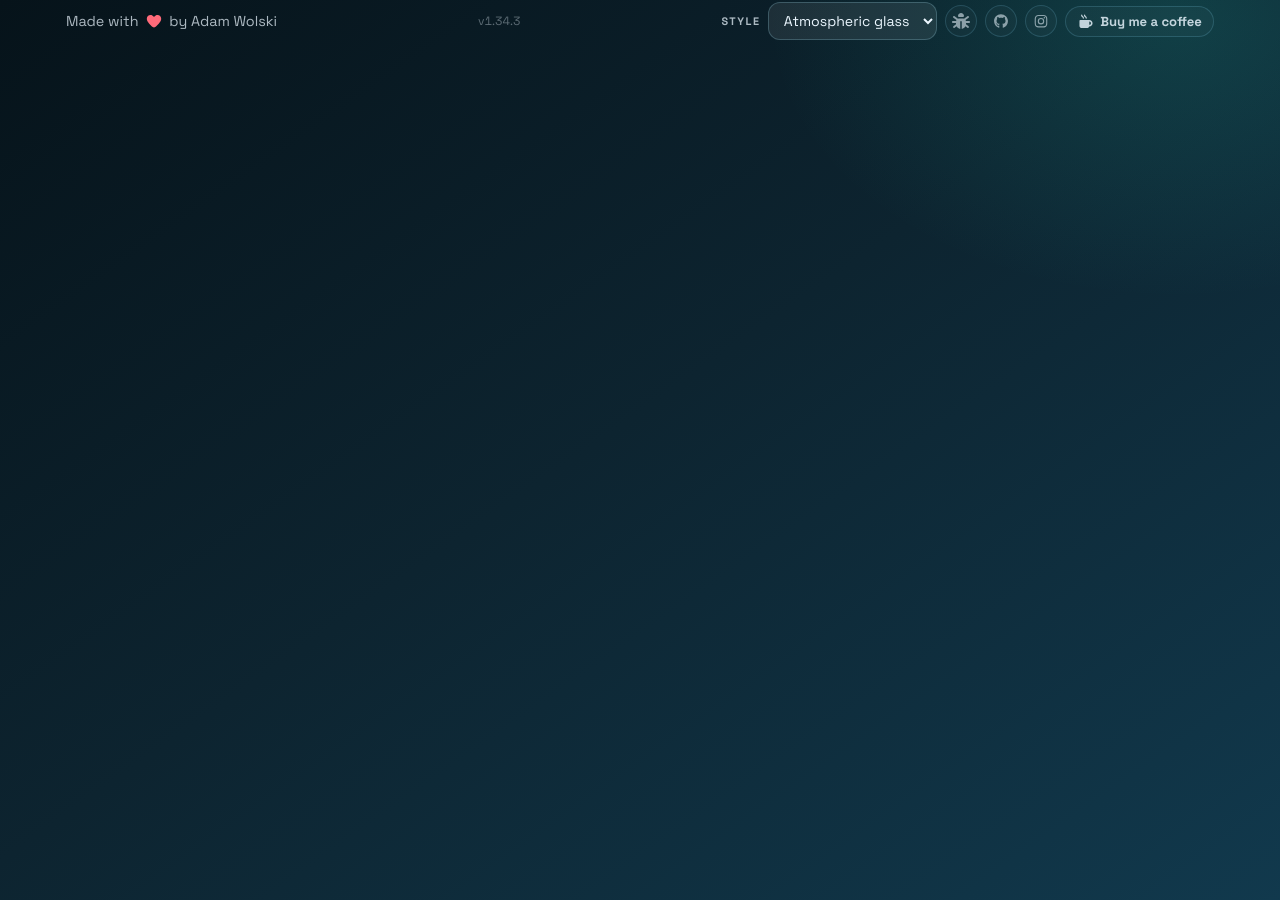
Test: Footer › closes again on Escape
Click the button with test id "report-bug-button": (961,21) top-left (945, 5), bottom-right (977, 37)
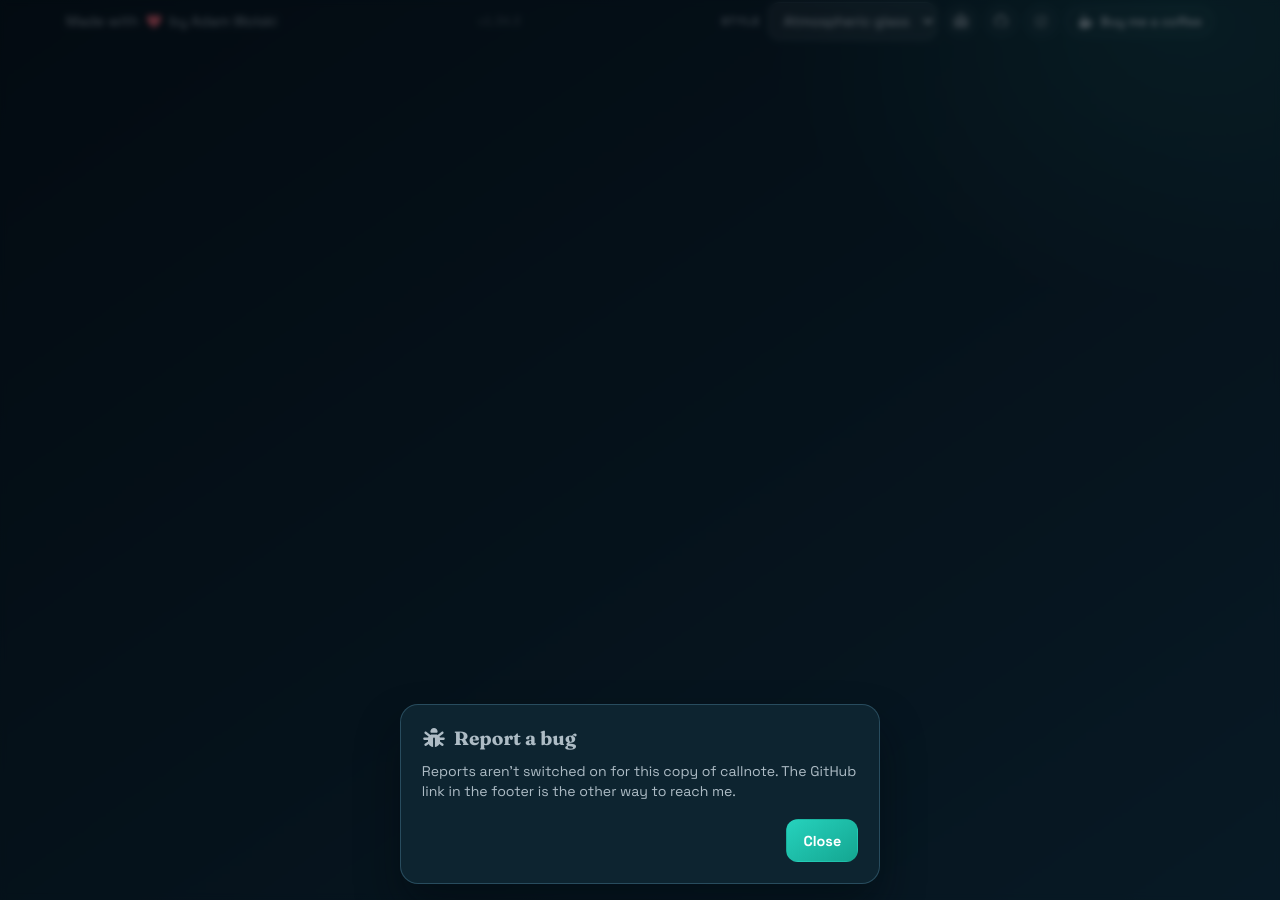
Result: the text with test id "bug-unavailable" is shown at top-left (422, 761), bottom-right (858, 802)
Press Escape
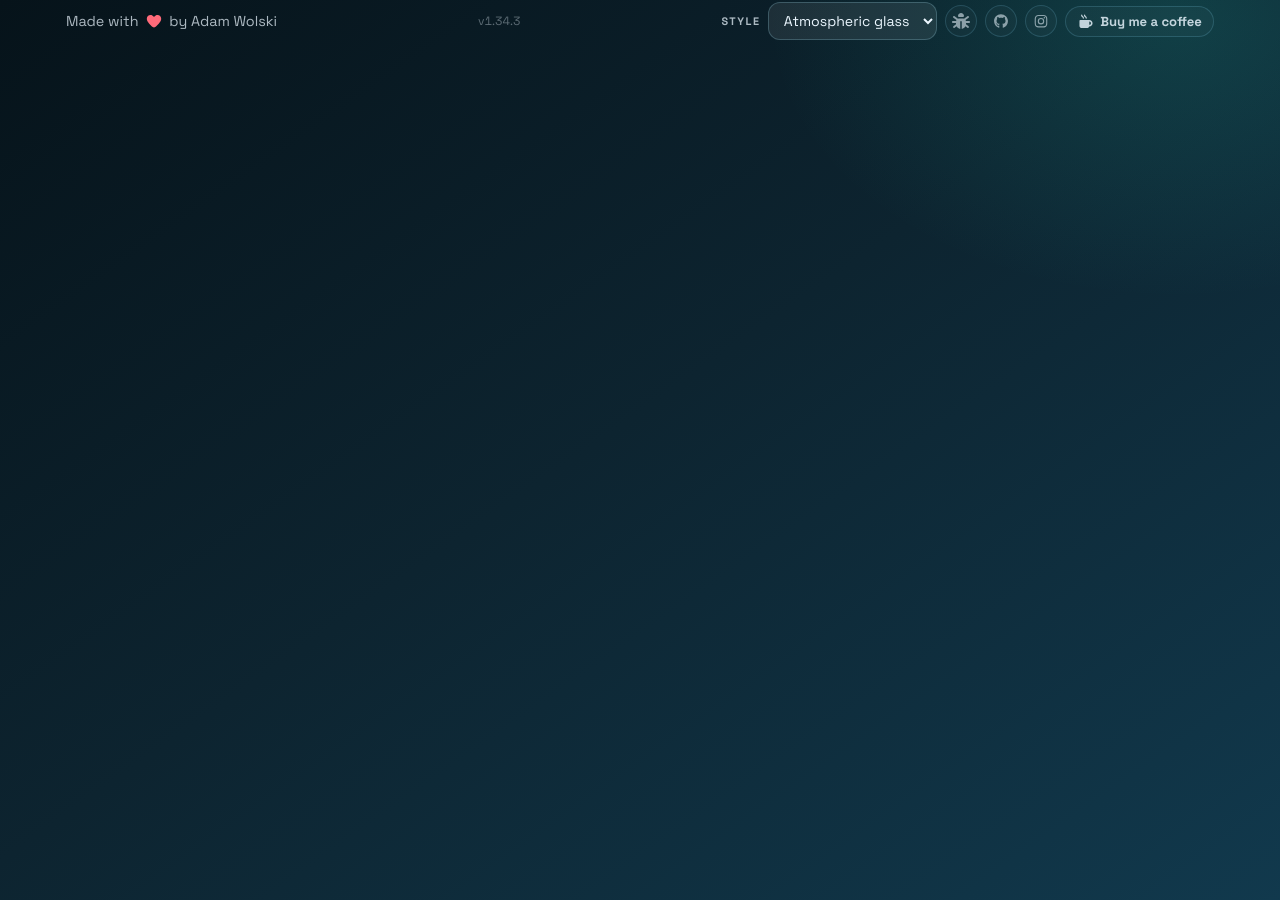
Result: the element with test id "bug-report-modal" is gone
